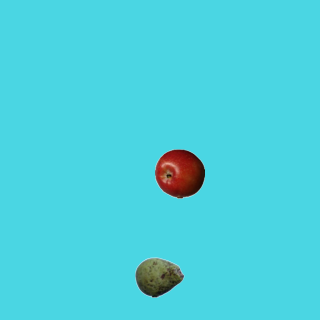Apple Braeburn: (154, 148, 204, 198)
Pear Stone: (134, 252, 184, 302)
